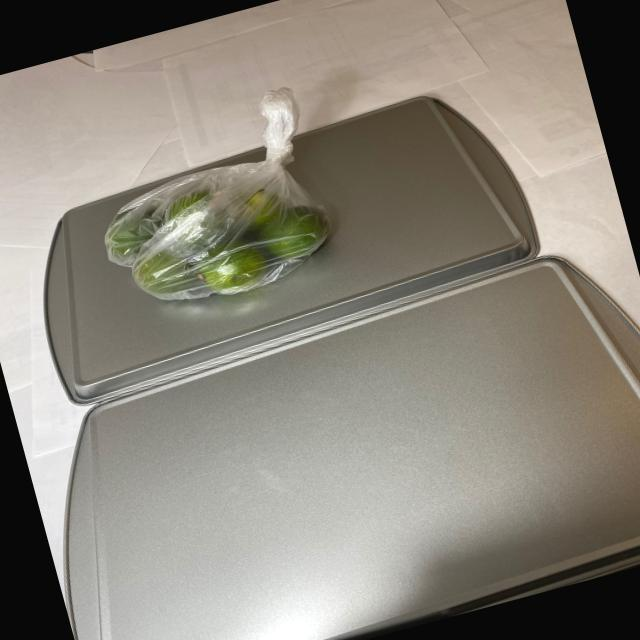lemon: (96, 151, 344, 324)
